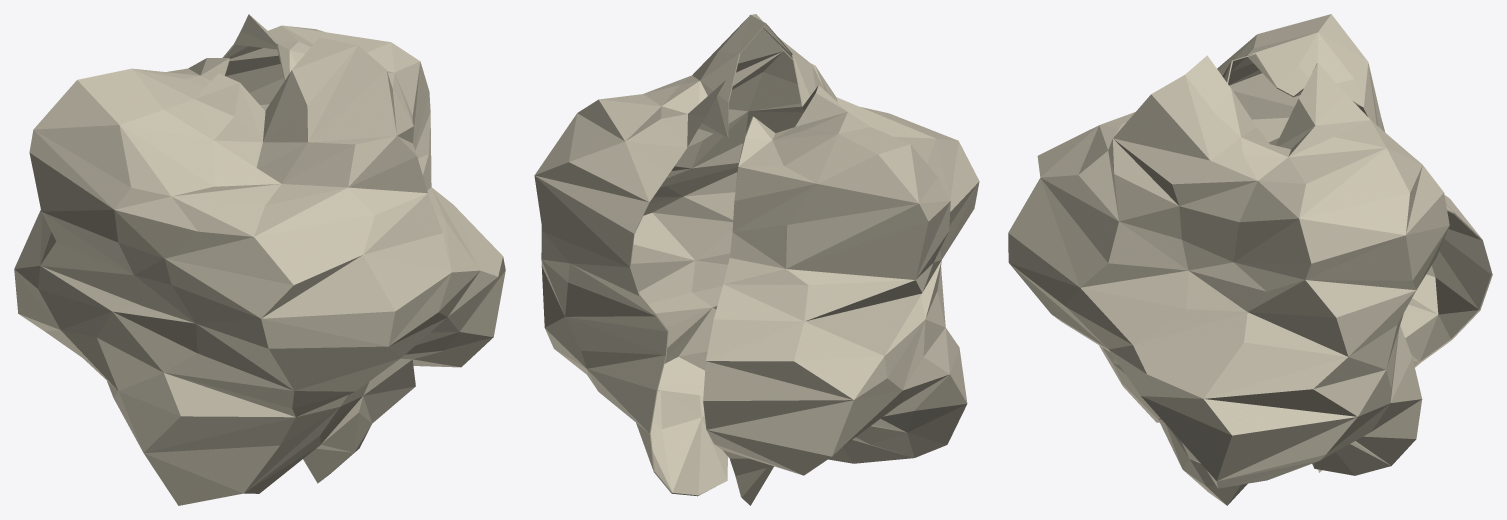
Rendered from D01_PaperBall2.fbx.
3 views of the same model, side by side, from view 1: azimuth 30°, elevation 25°; view 2: azimuth 150°, elevation 25°; view 3: azimuth 270°, elevation 25° (orthographic). The views are drawn at different scales.
Parts seen in each view (by area): view 1: Body_Mesh; view 2: Body_Mesh; view 3: Body_Mesh.
Boxes of the visible parts, x1,y1,x2,y2 form: Body_Mesh: (14,14,505,505); Body_Mesh: (534,14,979,505); Body_Mesh: (1008,14,1492,505).
Size of the model in its own units: 0.0778 by 0.0781 by 0.0778.
